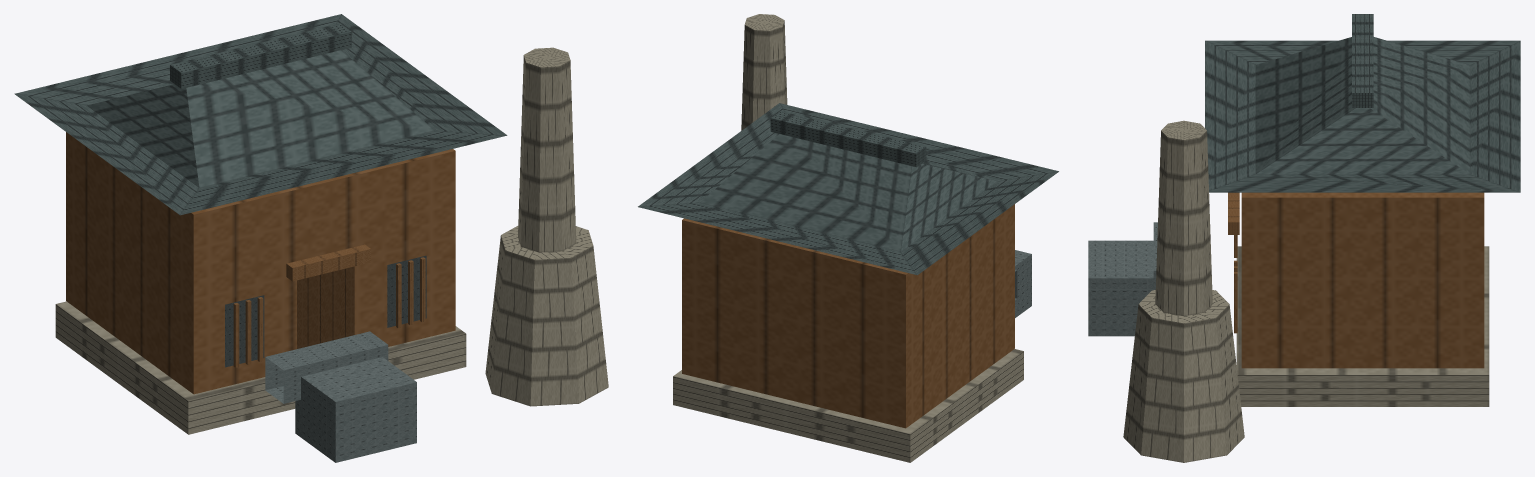
The model's file is domestic-SMITH-1-lod1.glb.
3 renders of one model, left to right at view 1: azimuth 30°, elevation 25°; view 2: azimuth 150°, elevation 25°; view 3: azimuth 270°, elevation 25°, orthographic. The views are drawn at different scales.
Bounding box in the file's own units: 0.7063 × 0.53 × 0.677.
1 material, 1 textured.
